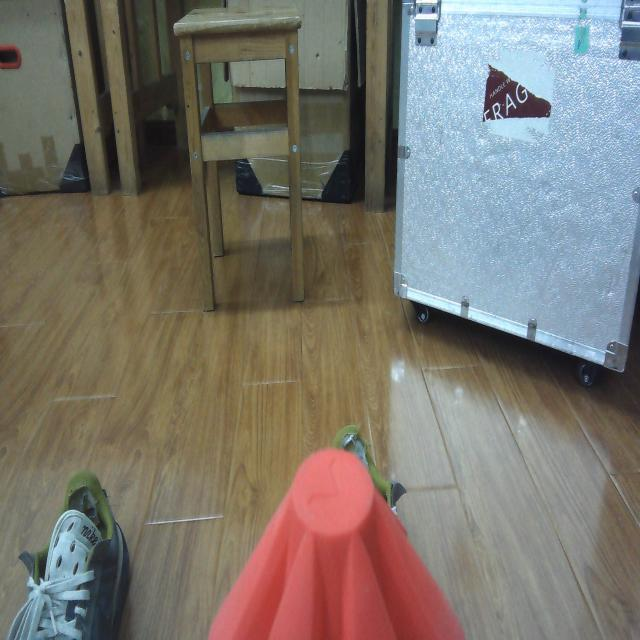zred-Stake-Head: (208, 448, 464, 640)
